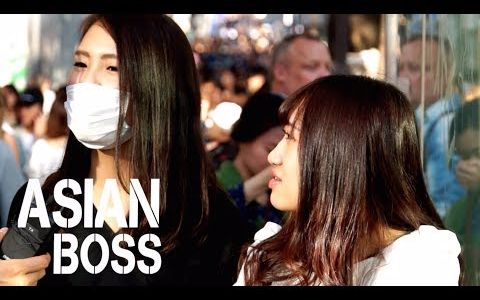mask: (58, 76, 138, 144)
